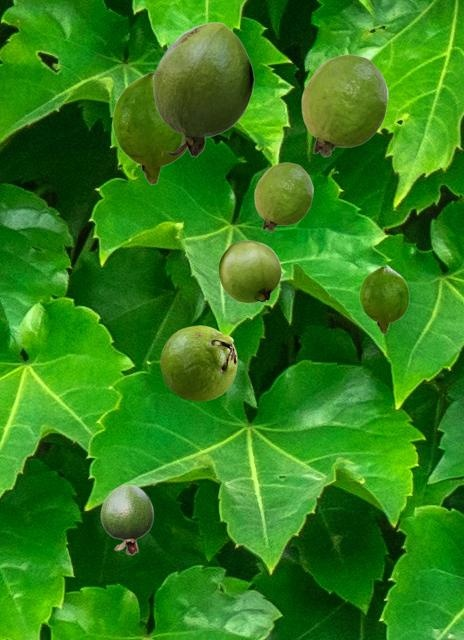guava: (153, 22, 253, 156), (301, 54, 387, 156), (112, 72, 187, 184), (160, 325, 236, 400), (254, 162, 312, 231), (218, 240, 280, 302), (100, 484, 153, 554), (359, 266, 408, 333)
